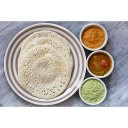dosa: (23, 29, 72, 100)
